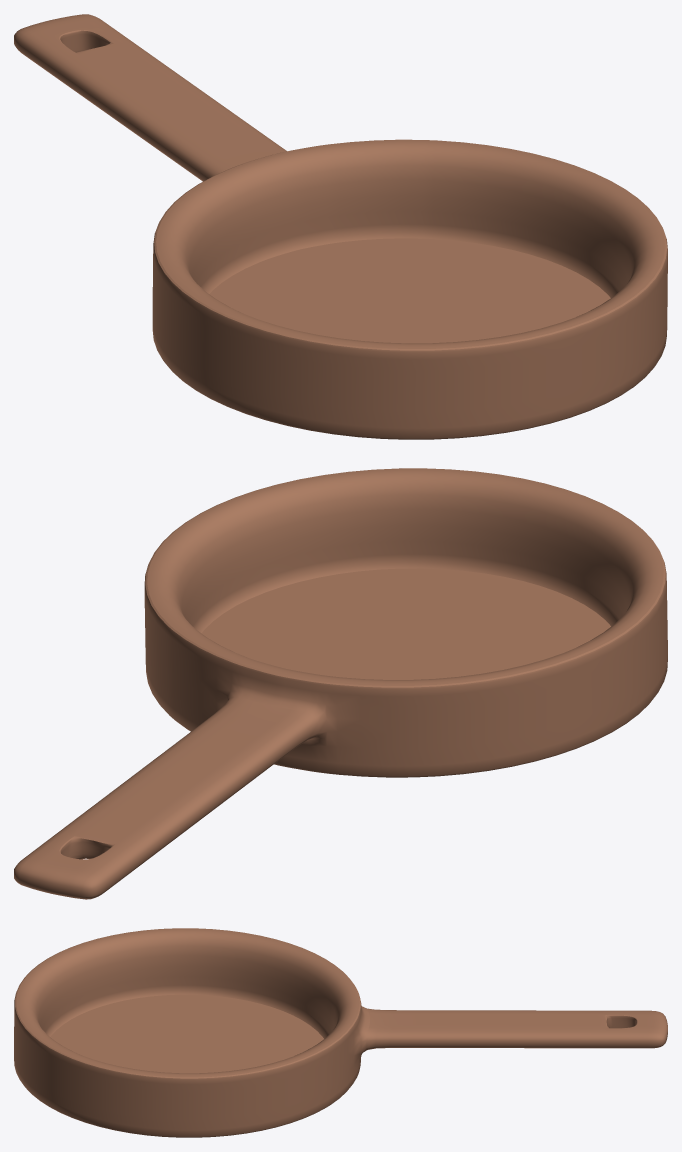
The model's file is sarten2.fbx.
3 renders of one model, top to bottom at view 1: azimuth 30°, elevation 25°; view 2: azimuth 150°, elevation 25°; view 3: azimuth 270°, elevation 25°, orthographic. The views are drawn at different scales.
Parts seen in each view (by area): view 1: sarten2; view 2: sarten2; view 3: sarten2.
Boxes of the visible parts, left/top/right/bottom form: sarten2: left=14, top=14, right=667, bottom=439; sarten2: left=14, top=468, right=667, bottom=899; sarten2: left=14, top=928, right=667, bottom=1137.
Bounding box in the file's own units: 30.69 × 6.42 × 57.84.
